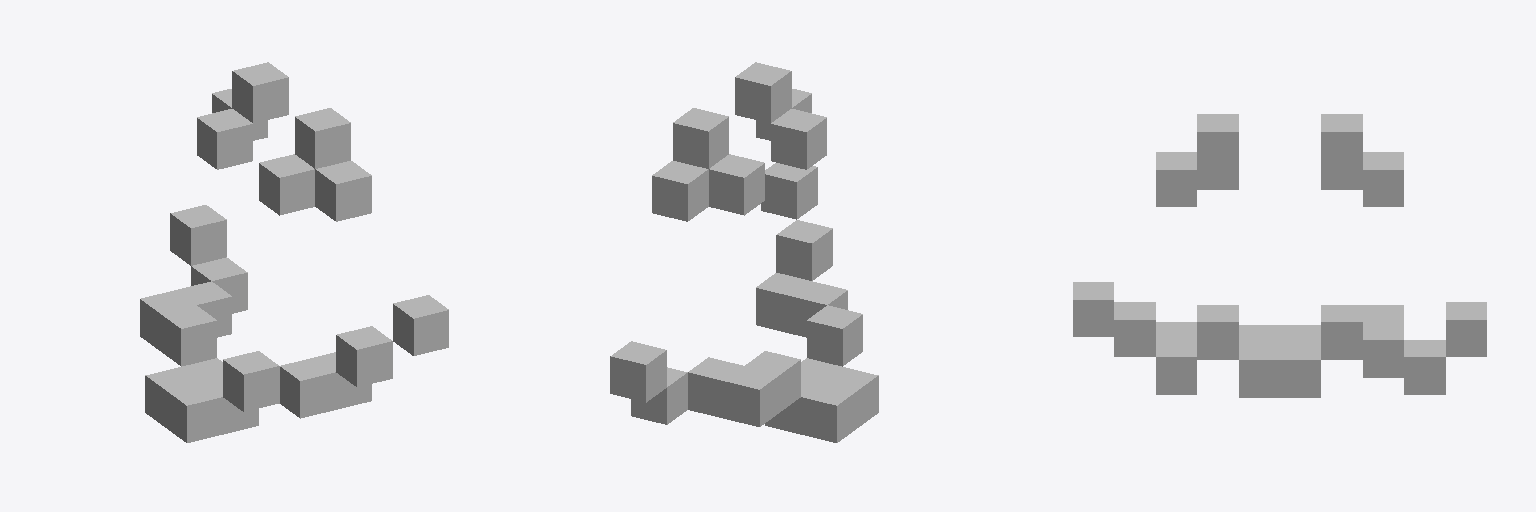
File: SearchEnemyEye.obj
3 renders of one model, left to right at view 1: azimuth 30°, elevation 25°; view 2: azimuth 150°, elevation 25°; view 3: azimuth 270°, elevation 25°, orthographic.
Size of the model in its own units: 5 by 8 by 10.